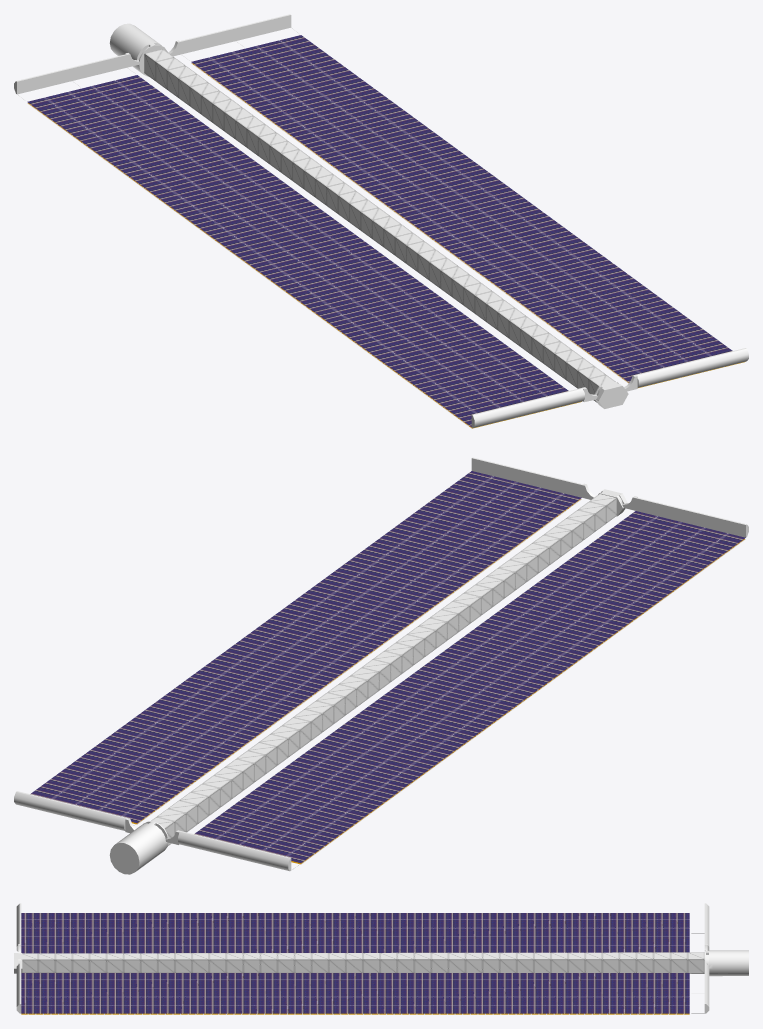
File: Panneau.FBX
3 views of the same model, one above another, from view 1: azimuth 30°, elevation 25°; view 2: azimuth 150°, elevation 25°; view 3: azimuth 270°, elevation 25° (orthographic). The views are drawn at different scales.
Parts seen in each view (by area): view 1: paportin; view 2: paportin; view 3: paportin.
Part boxes in pixels (box(x1,y1,x2,y2)): paportin: box(14, 14, 748, 428); paportin: box(14, 457, 748, 874); paportin: box(14, 903, 748, 1014).
Size of the model in its own units: 11.68 by 1.27 by 36.1.
4 materials, 3 textured.
